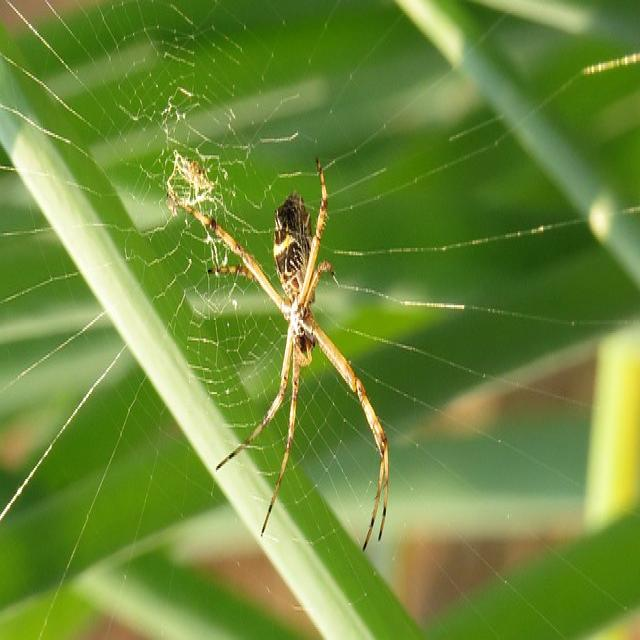spyder: (169, 156, 388, 519)
